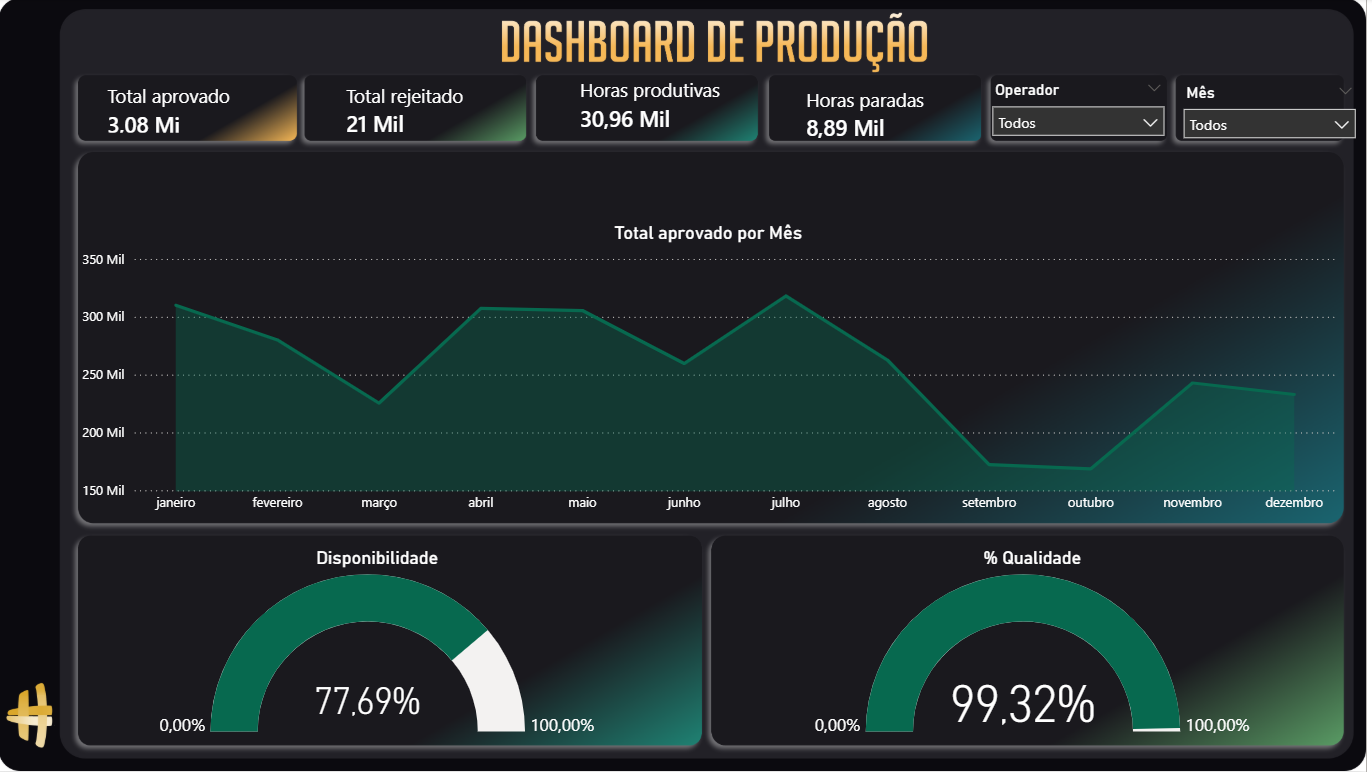

What the dashboard file says about the page in this screenshot:
{"tool":"powerbi","page":{"name":"Página 1","canvas":[1280,720],"ordinal":0},"visuals":[{"type":"cardVisual","fields":{"Data":["BaseProdução.total aprovado"]},"box":[80,67.5,190,75],"z":0},{"type":"cardVisual","fields":{"Data":["BaseProdução.total rejeitado"]},"box":[302.5,55,182.5,100],"z":1000},{"type":"cardVisual","fields":{"Data":["BaseProdução.Horas produtivas"]},"box":[520,42.5,210,112.5],"z":2000},{"type":"cardVisual","fields":{"Data":["BaseProdução.Horas paradas"]},"box":[730,60,192.5,95],"z":3000},{"type":"areaChart","fields":{"Category":["BaseProdução.Data Inicio.Variation.Hierarquia de datas.Mês"],"Y":["BaseProdução.Total aprovado"]},"box":[80,208,1176,280],"z":4000},{"type":"gauge","fields":{"Y":["BaseProdução.Disponibilidade"]},"box":[80,510,560,182],"z":5000},{"type":"gauge","fields":{"Y":["BaseProdução.% Qualidade"]},"box":[684,510,572,182],"z":6000},{"type":"slicer","fields":{"Values":["BaseProdução.Operador"]},"box":[922.5,72.5,180,82.5],"z":7000},{"type":"slicer","fields":{"Values":["BaseProdução.Data Inicio.Variation.Hierarquia de datas.Mês"]},"box":[1100,75,180,82.5],"z":8000}]}

Visuals, with their boxes in screenshot pixels (x1, y1, x2, y2), scaled from the page's 1280x720 canvas onto the 1372x772 screenshot:
cardVisual - BaseProdução.total aprovado: locate(86, 72, 289, 153)
cardVisual - BaseProdução.total rejeitado: locate(324, 59, 520, 166)
cardVisual - BaseProdução.Horas produtivas: locate(557, 46, 782, 166)
cardVisual - BaseProdução.Horas paradas: locate(782, 64, 989, 166)
areaChart - BaseProdução.Data Inicio.Variation.Hierarquia de datas.Mês x BaseProdução.Total aprovado: locate(86, 223, 1346, 523)
gauge - BaseProdução.Disponibilidade: locate(86, 547, 686, 742)
gauge - BaseProdução.% Qualidade: locate(733, 547, 1346, 742)
slicer - BaseProdução.Operador: locate(989, 78, 1182, 166)
slicer - BaseProdução.Data Inicio.Variation.Hierarquia de datas.Mês: locate(1179, 80, 1371, 169)
